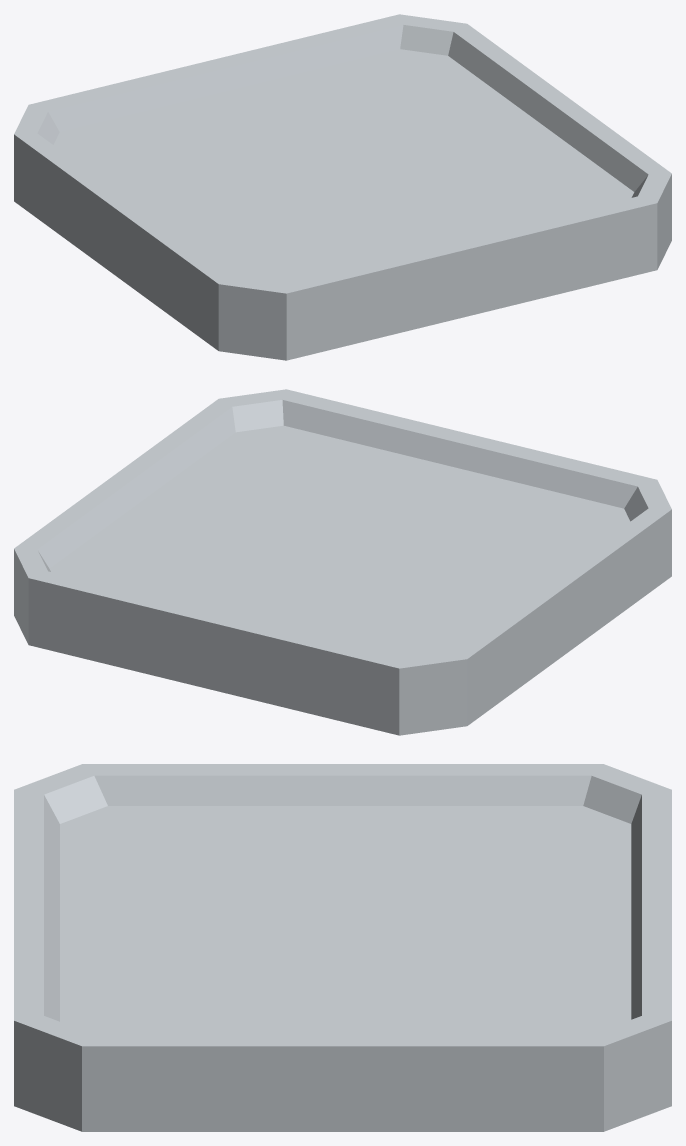
The model's file is BridgePlatform.fbx.
3 renders of one model, top to bottom at view 1: azimuth 30°, elevation 25°; view 2: azimuth 150°, elevation 25°; view 3: azimuth 270°, elevation 25°, orthographic. The views are drawn at different scales.
Parts seen in each view (by area): view 1: BridgePlatform; view 2: BridgePlatform; view 3: BridgePlatform.
Part boxes in pixels (x1,y1,x2,y2): BridgePlatform: [14, 14, 671, 360]; BridgePlatform: [14, 389, 671, 735]; BridgePlatform: [14, 764, 671, 1131].
Bounding box in the file's own units: 30.06 × 4.25 × 29.63.
